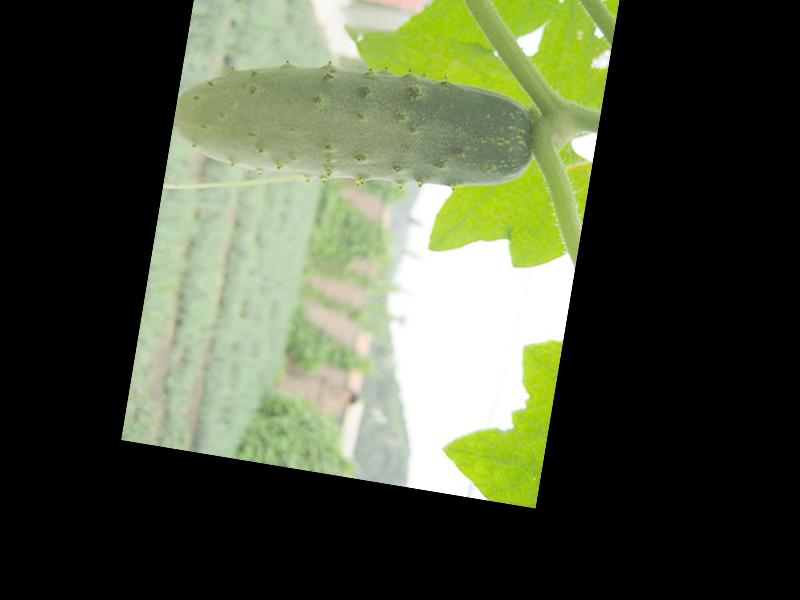Cucumber: (169, 39, 541, 211)
